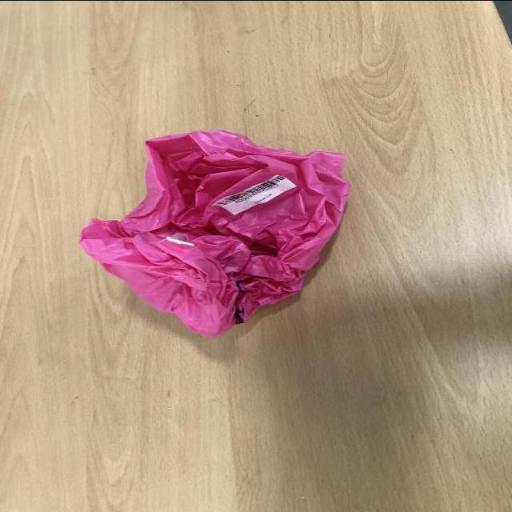plastic-bag: (75, 126, 349, 340)
